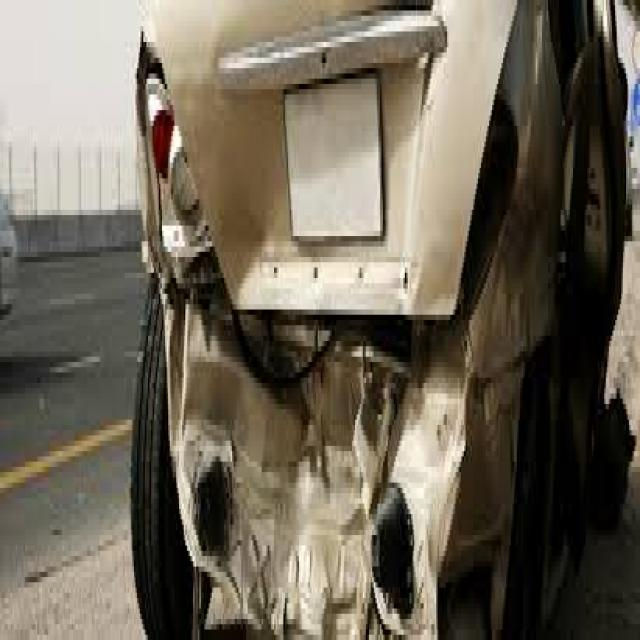severe: (124, 31, 610, 640)
